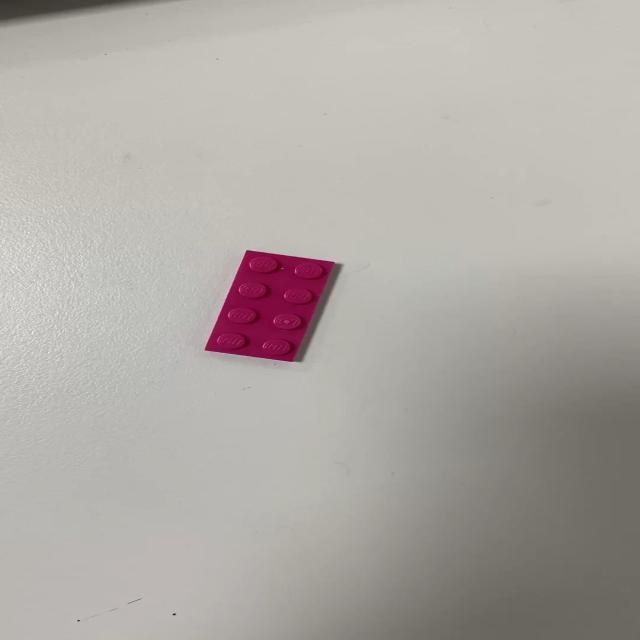C4x2x0: (202, 249, 338, 363)
